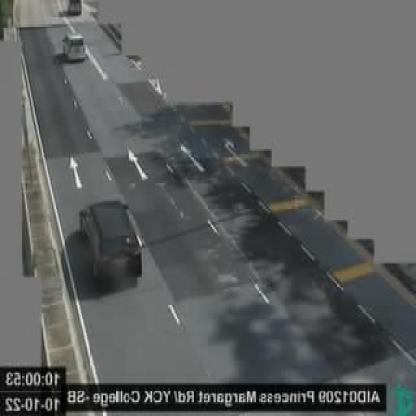Car: (78, 200, 140, 285), (64, 32, 84, 61)
